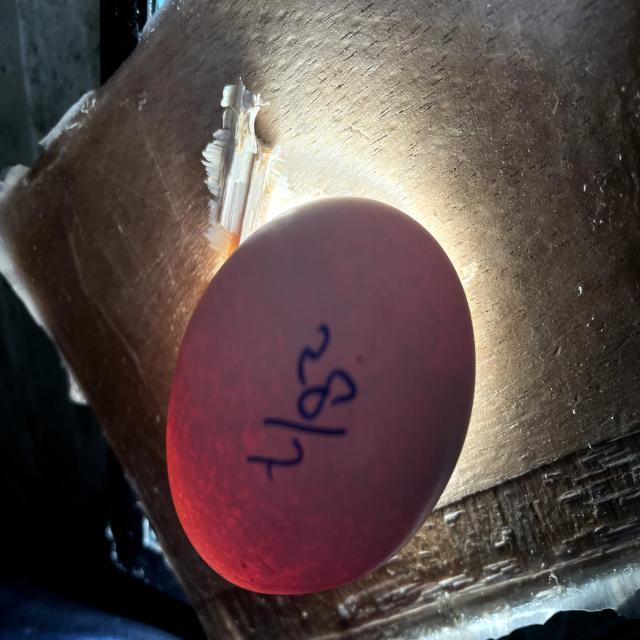fertile: (166, 198, 475, 595)
